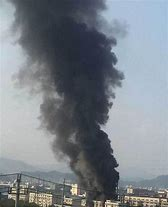smoke: (11, 1, 123, 195)
